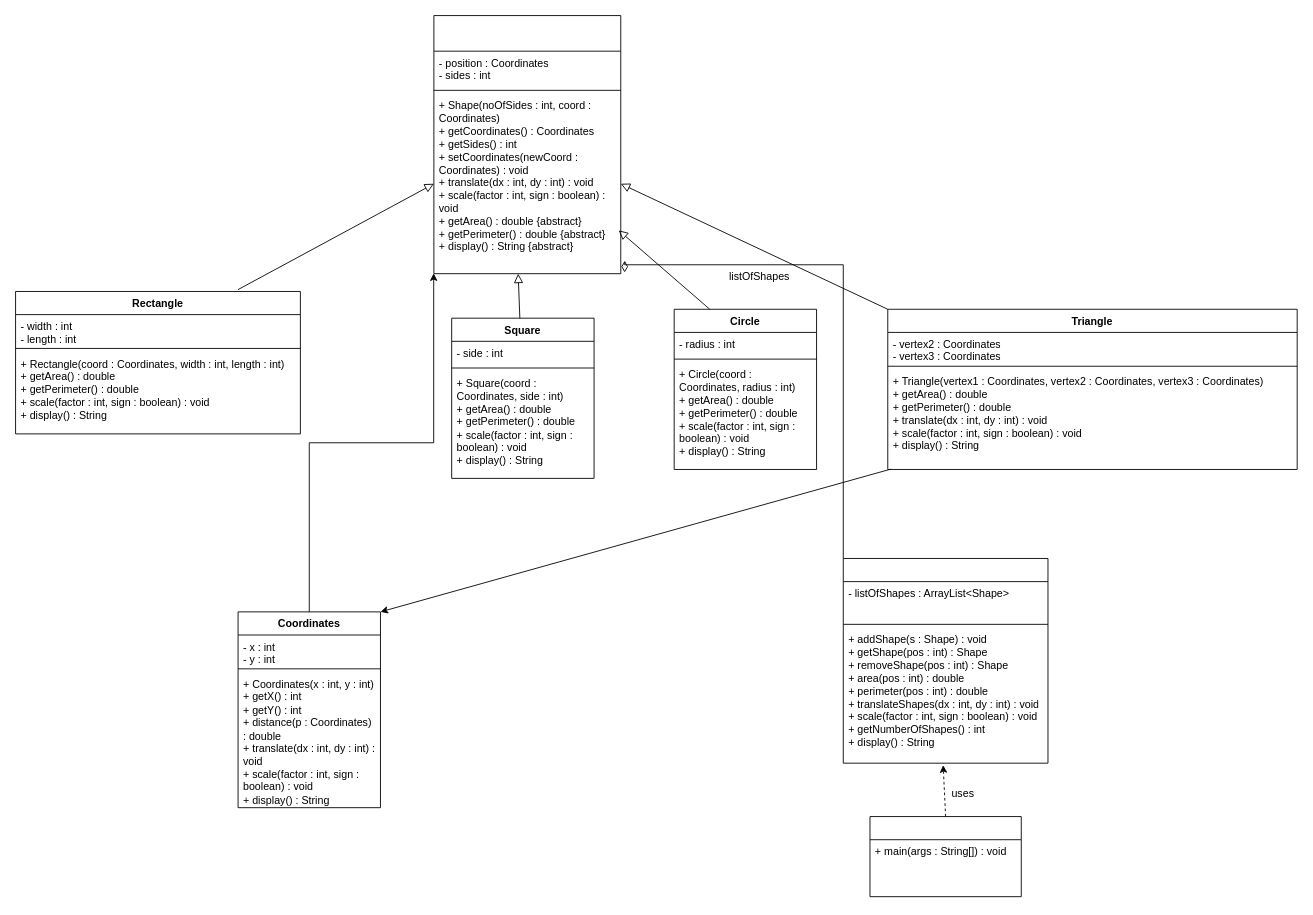
Some shapes in this 1313 by 915 pixel diagram are drawn without their labels. Each missing label, with the box of its shape:
<<abstract>> Shape: (433, 15, 621, 274)
ShapeList: (842, 558, 1048, 763)
ShapeManagement: (869, 816, 1021, 897)
